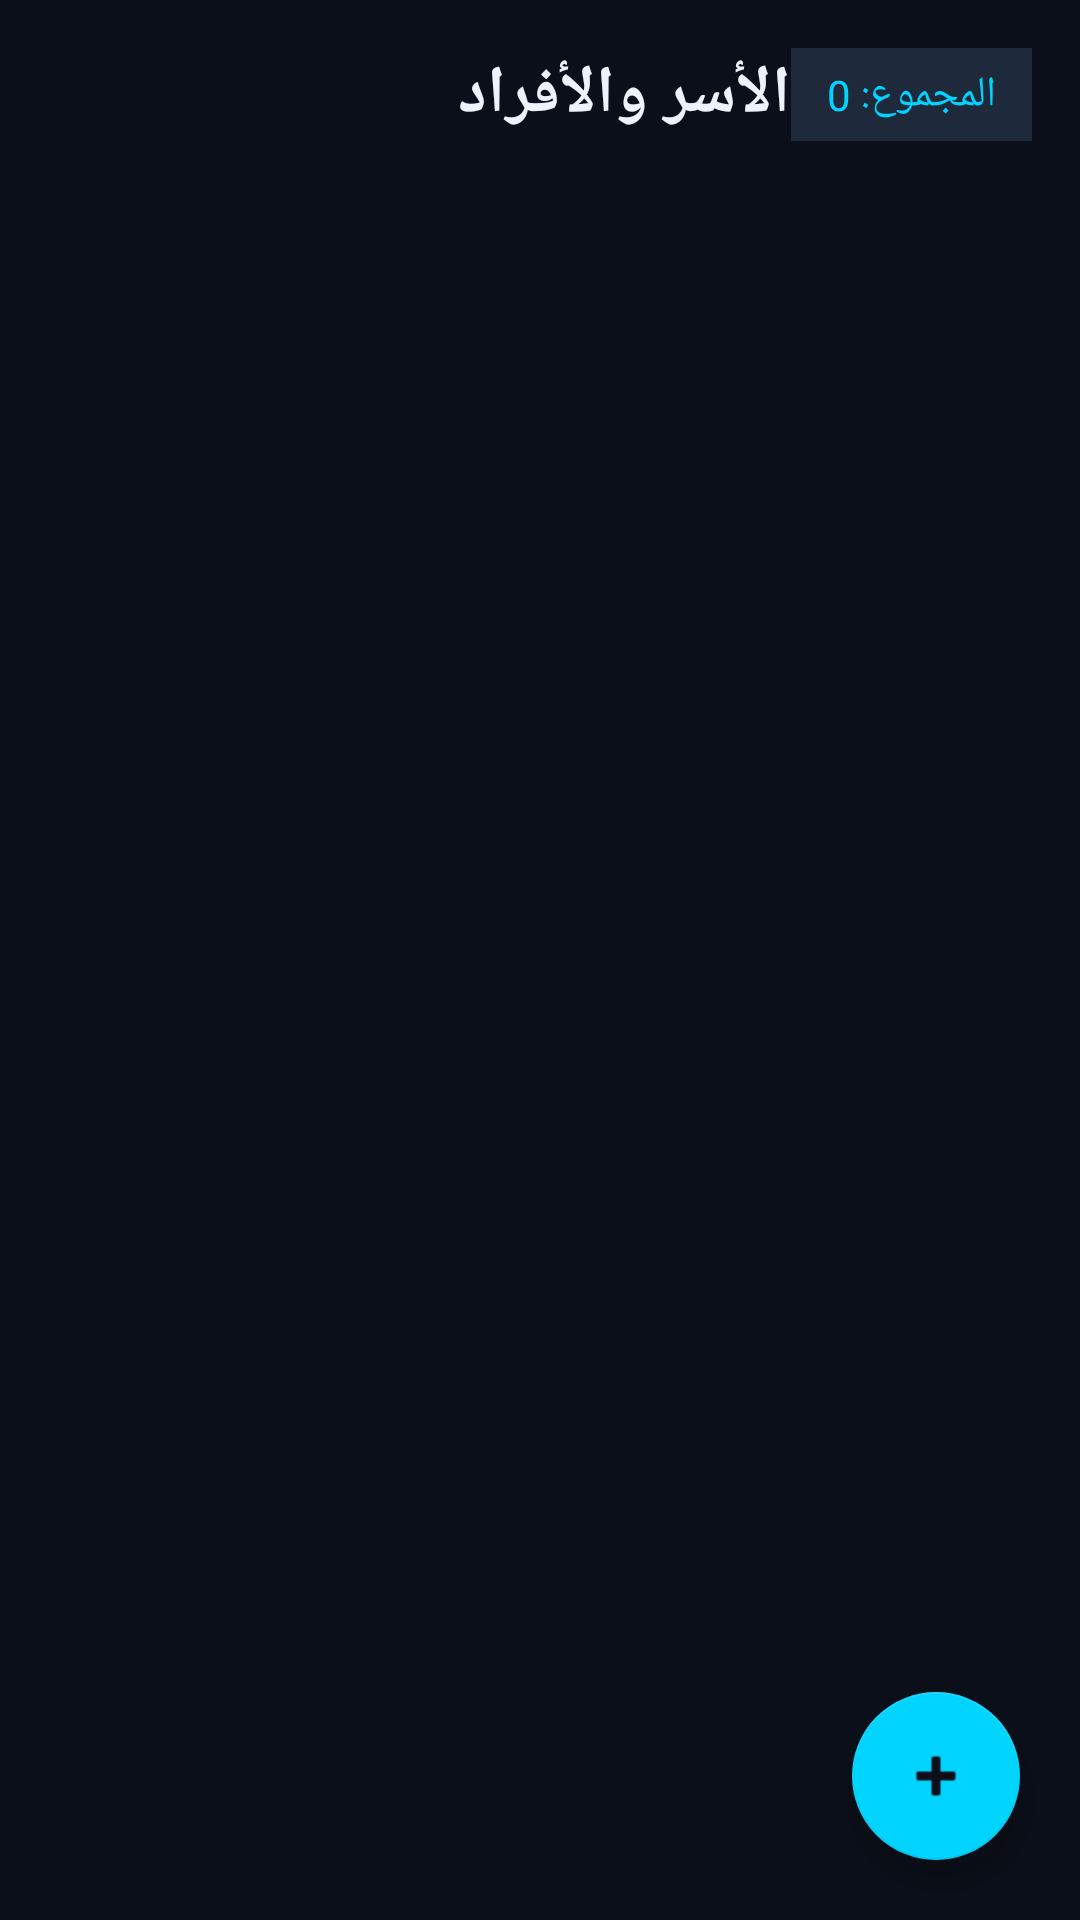

Icon click points for this 1080*1920 phone screenshot, format (x,y):
إضافة عائلة: (936,1776)
